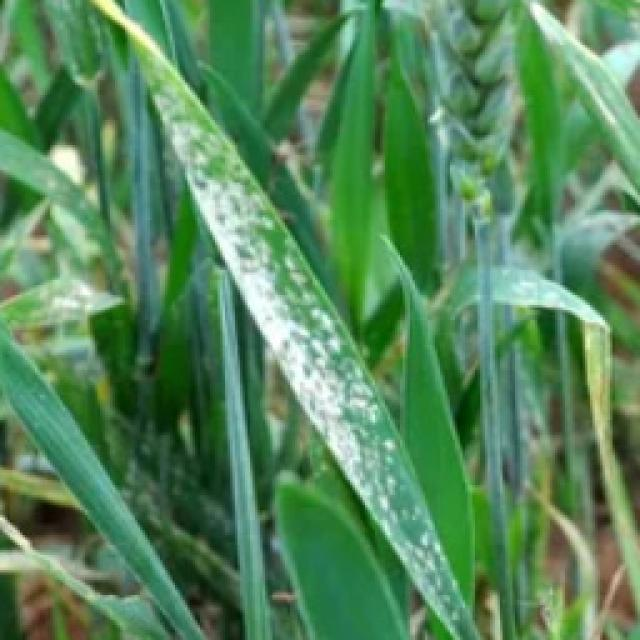Powdery Mildew: (134, 80, 449, 611)
